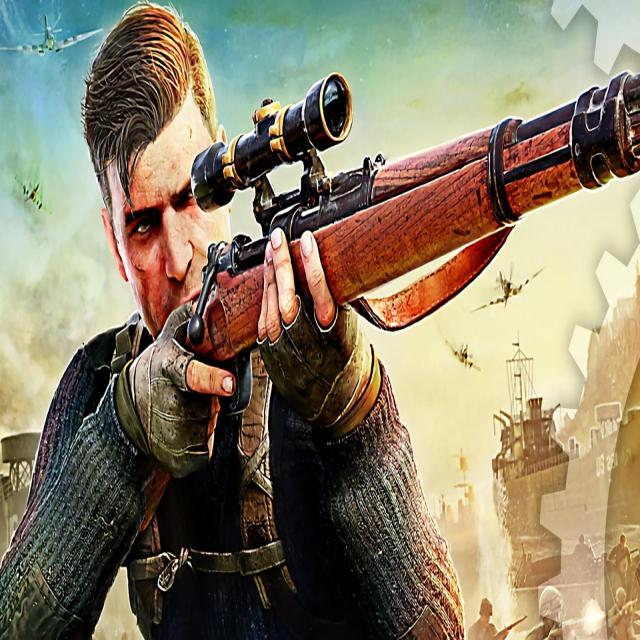weapon: (114, 58, 639, 628)
